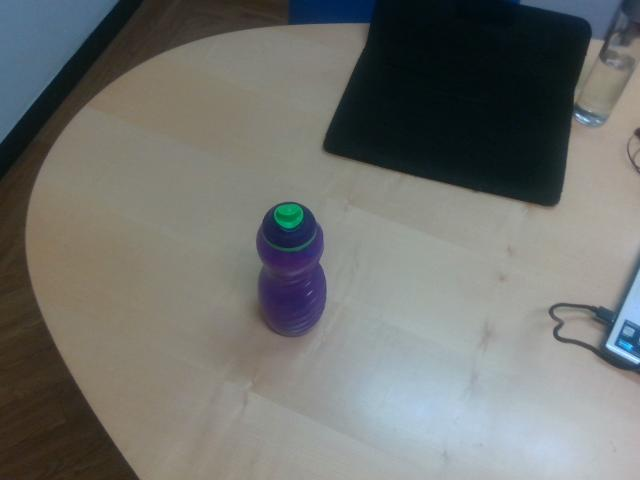bottle: (257, 202, 326, 335)
